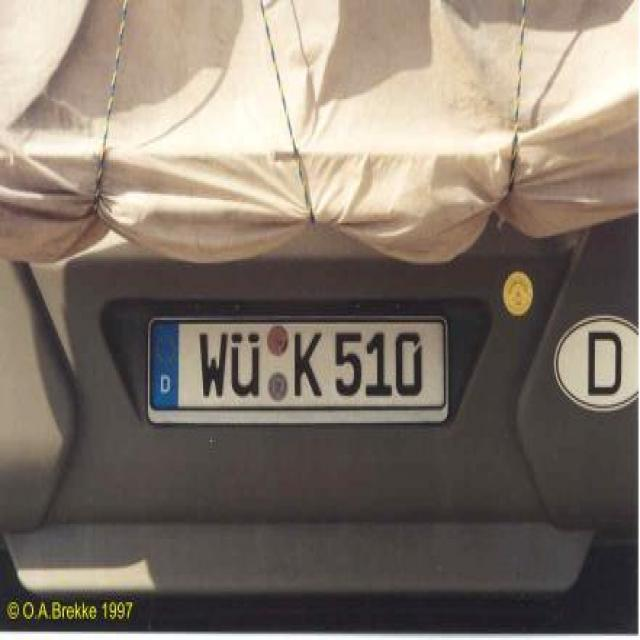license-plates: (147, 316, 450, 424)
